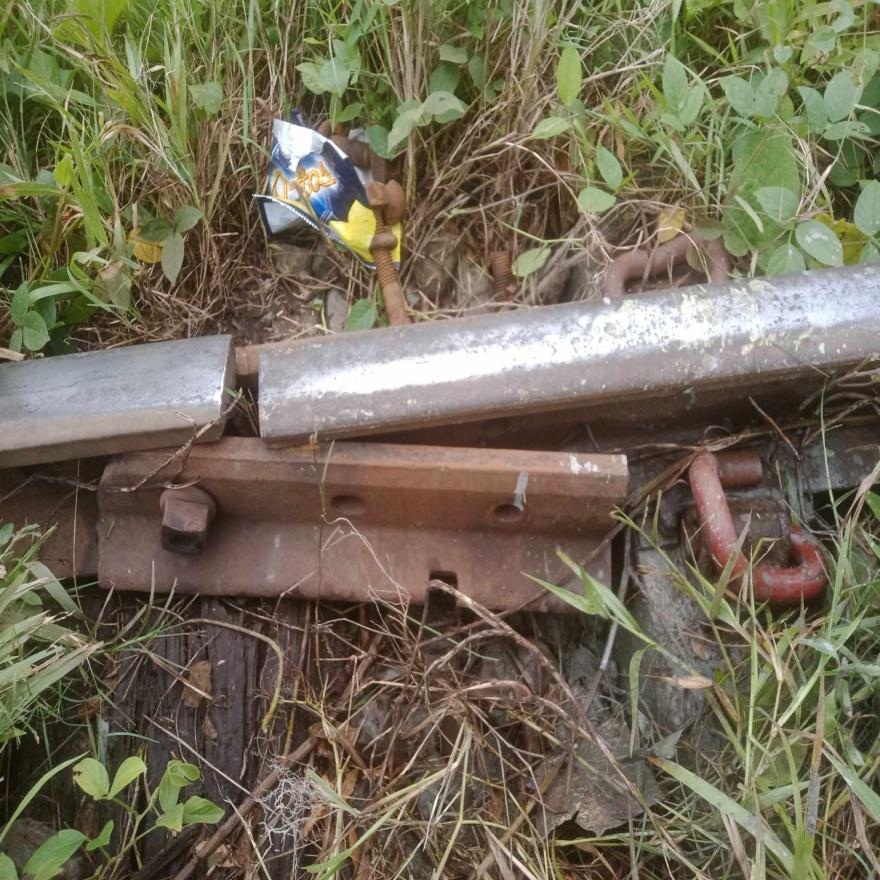railway-gap: (168, 290, 323, 504)
